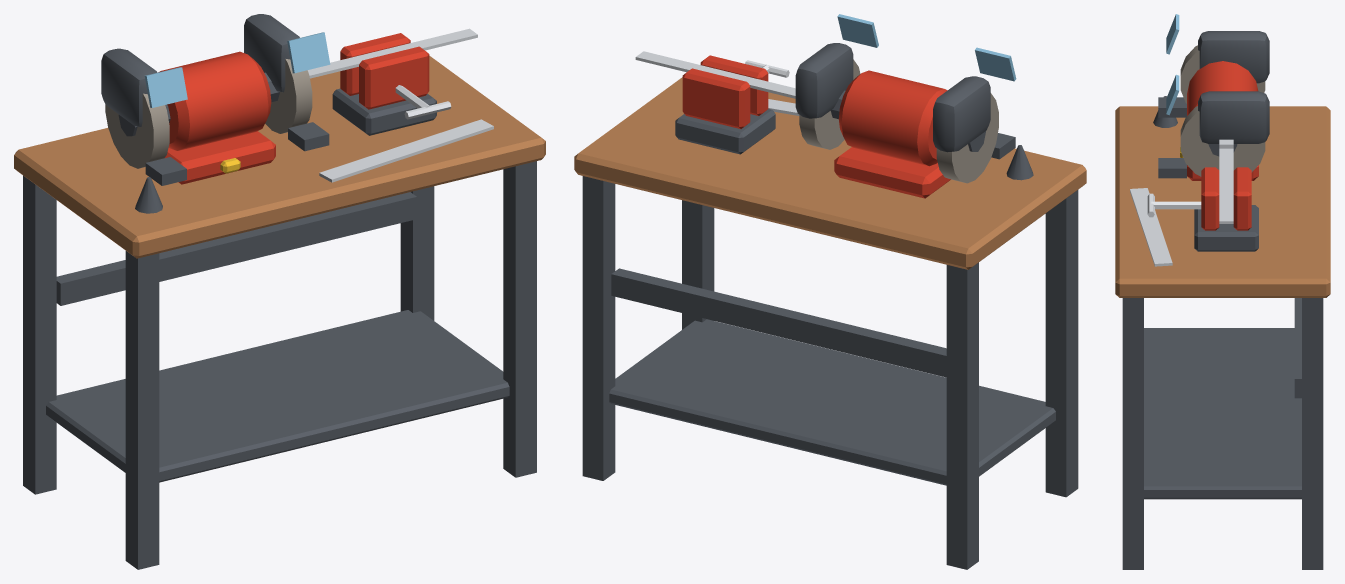
File: addon_sharpener.glb
3 views of the same model, side by side, from view 1: azimuth 30°, elevation 25°; view 2: azimuth 150°, elevation 25°; view 3: azimuth 270°, elevation 25° (orthographic). The views are drawn at different scales.
Parts seen in each view (by area): view 1: Addon; view 2: Addon; view 3: Addon.
Part boxes in pixels (<box>): Addon: <box>14,14,545,569</box>; Addon: <box>574,14,1086,569</box>; Addon: <box>1115,14,1330,569</box>.
Bounding box in the file's own units: 1.16 × 1.24 × 0.6.
